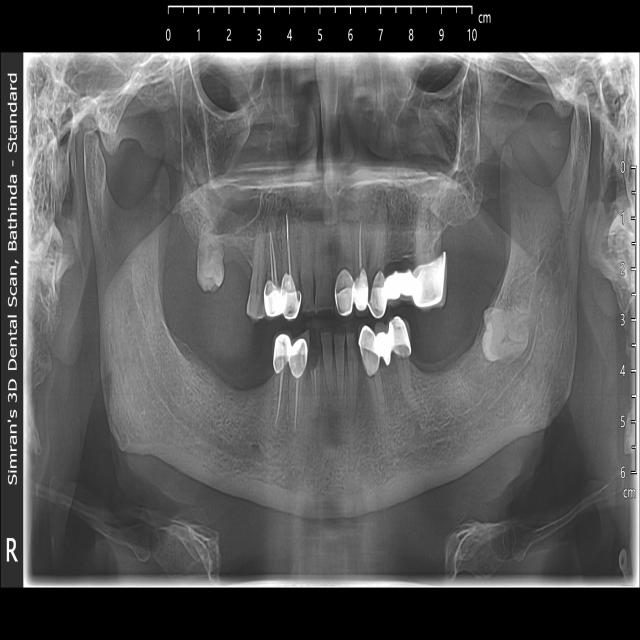Caries: (196, 246, 222, 296)
Crown: (370, 252, 443, 317), (362, 319, 411, 378), (262, 272, 301, 321), (336, 268, 368, 314), (273, 334, 306, 371)
Missing teeth: (189, 333, 264, 393), (420, 330, 481, 402), (225, 234, 252, 299), (387, 217, 412, 267)
Root Canal Treatment: (278, 200, 299, 317), (269, 336, 290, 437), (289, 336, 309, 440), (266, 211, 281, 310), (353, 204, 367, 310), (309, 355, 322, 412)
impacted tooth: (482, 307, 529, 359)
